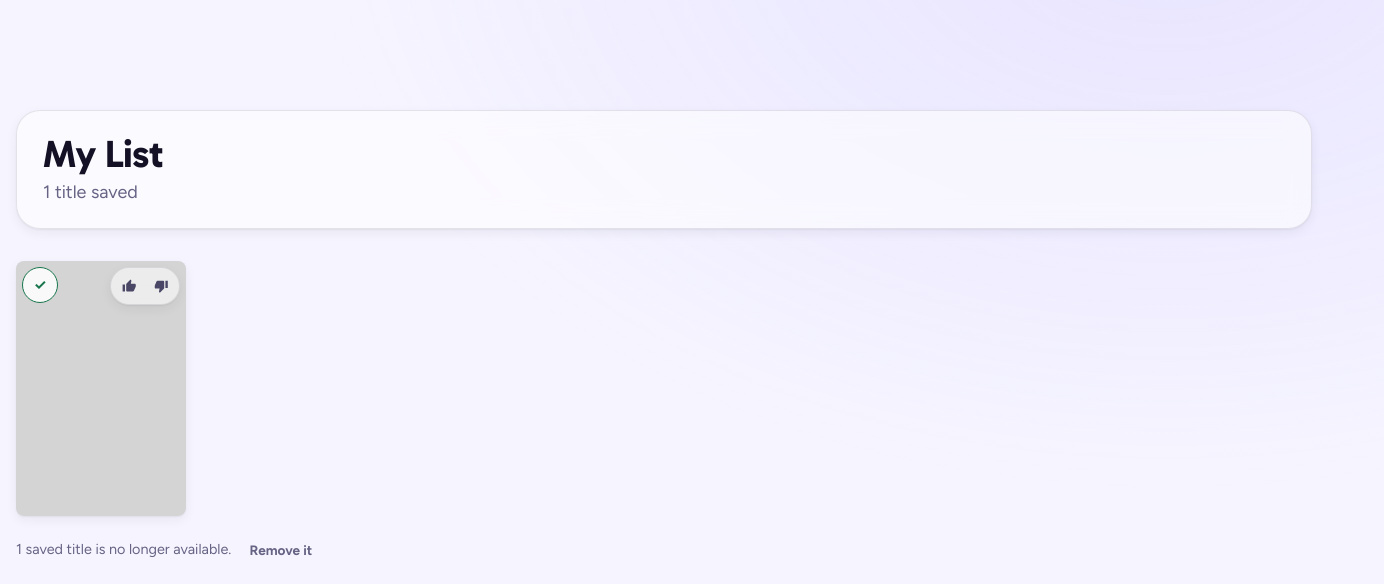
Test: MyListPage › offers to clean up titles that no longer resolve
Expected: the text "1 saved title is no longer available. Remove it" is shown, [16,532,326,568]
Click the button "Remove it" at coordinates (281, 550), box [235,532,326,568]
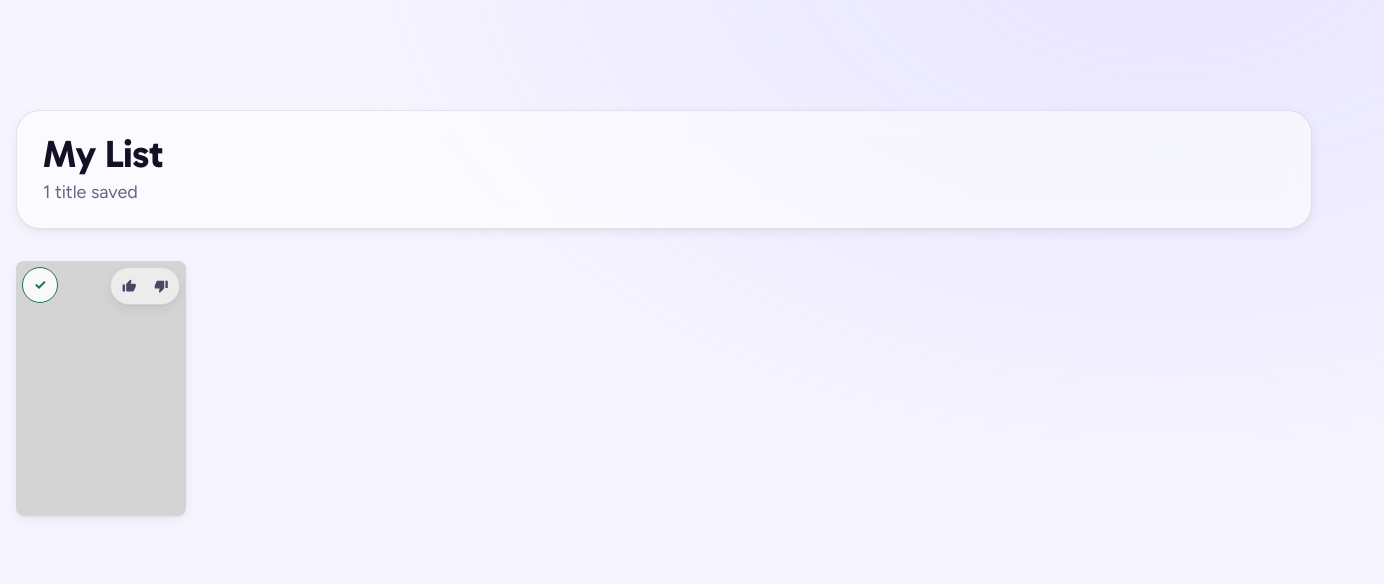
Now the text "no longer available" is gone
